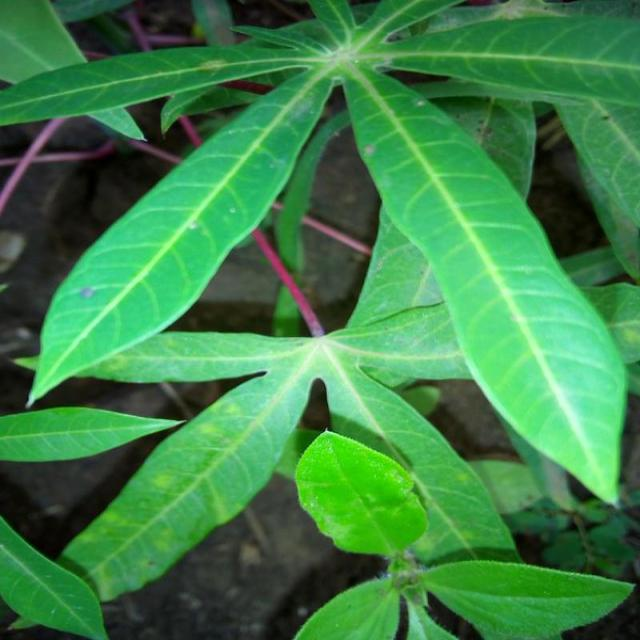cassava leaf: (0, 0, 638, 638), (340, 61, 628, 509), (24, 63, 334, 407), (294, 428, 427, 558)
